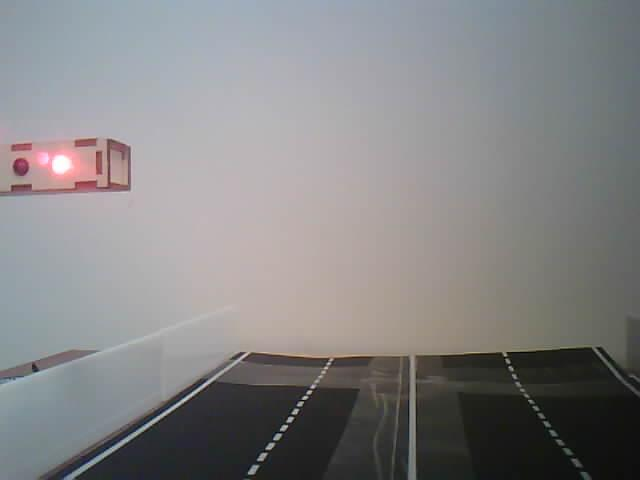red: (0, 136, 192, 217)
